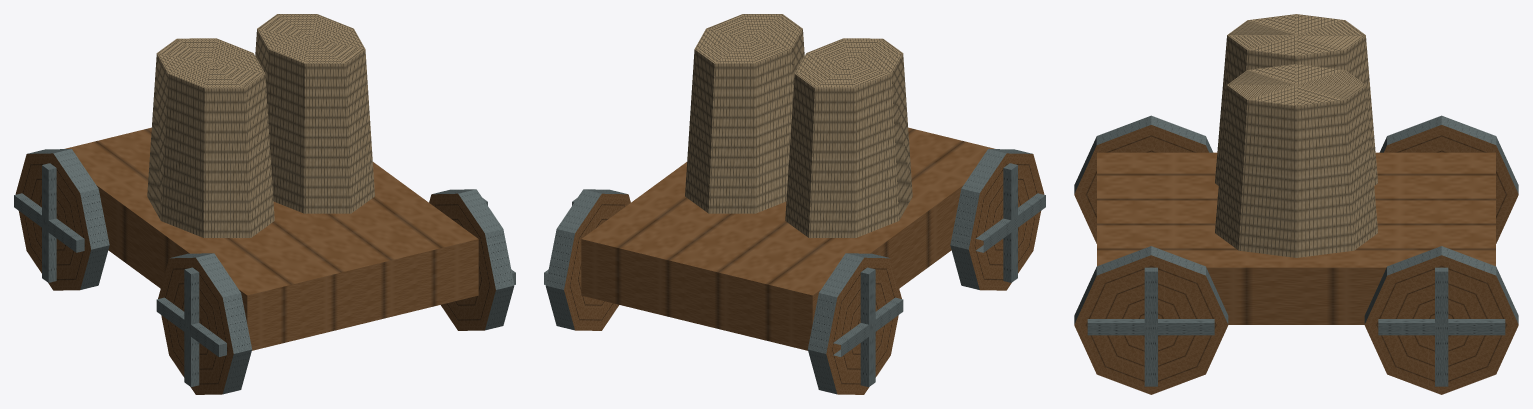
File: unit-transport-lod1.glb
The picture shows the model from 3 angles, left to right: view 1: azimuth 30°, elevation 25°; view 2: azimuth 150°, elevation 25°; view 3: azimuth 270°, elevation 25°; orthographic projection.
Size of the model in its own units: 0.385 by 0.32 by 0.49.
1 material, 1 textured.
